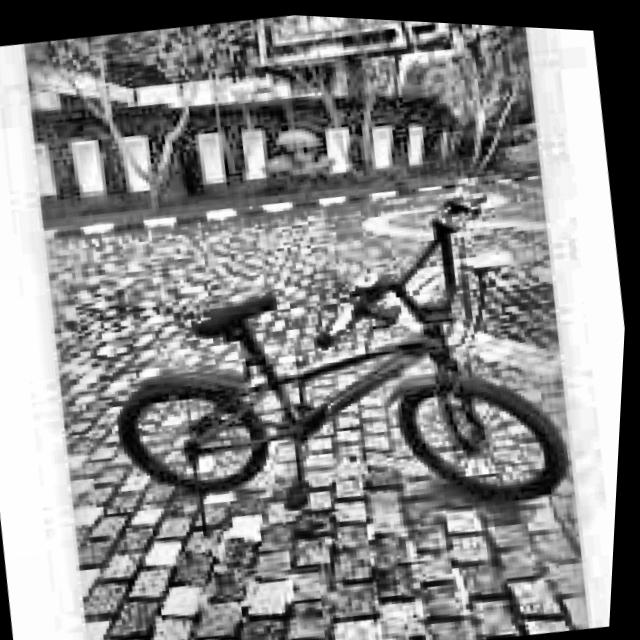bike: (76, 150, 589, 568)
